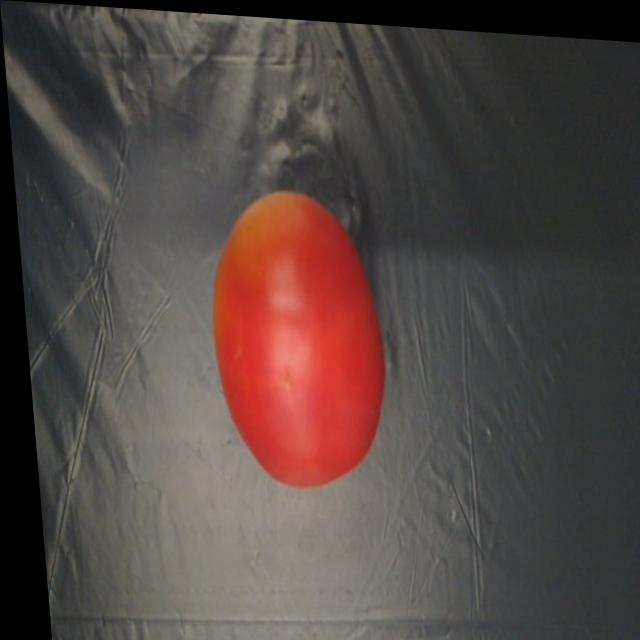sari: (194, 154, 333, 310)
